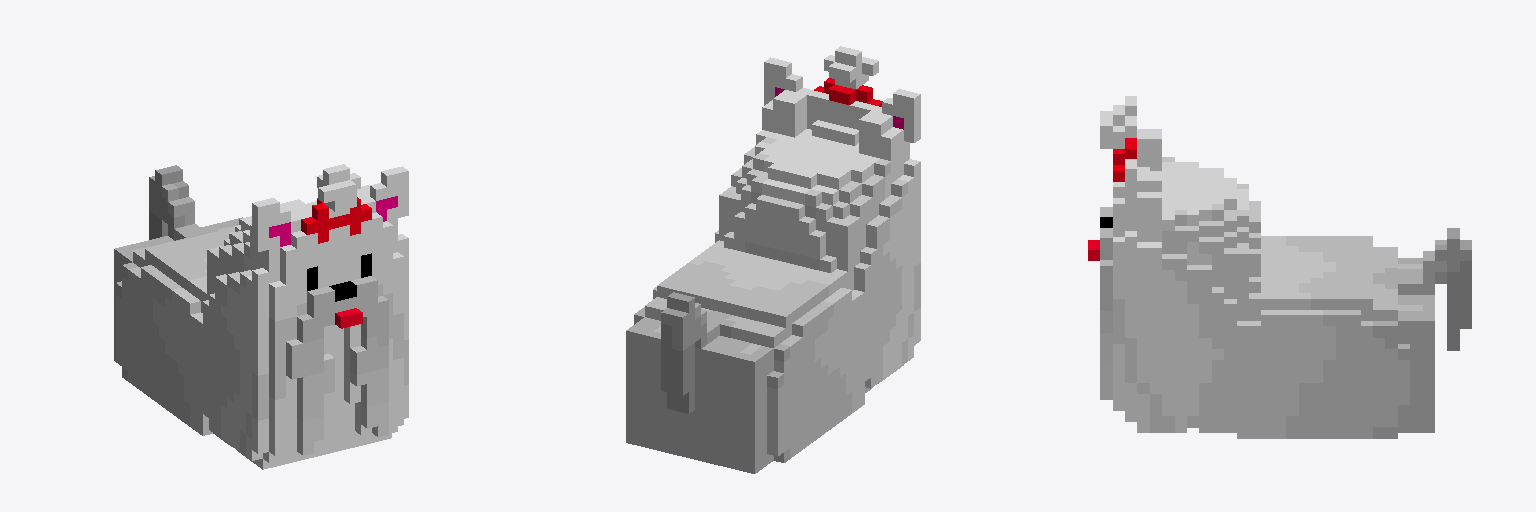
The picture shows the model from 3 angles: view 1: azimuth 30°, elevation 25°; view 2: azimuth 150°, elevation 25°; view 3: azimuth 270°, elevation 25°; orthographic projection.
Visible parts, largest first — view 1: object 1; view 2: object 1; view 3: object 1.
Part boxes in pixels (x1,y1,x2,y2): object 1: (114,164,408,469); object 1: (626,46,920,473); object 1: (1088,96,1471,438).
Bounding box in the file's own units: 1.4 × 2.6 × 3.1.
1 materials, 1 textured.